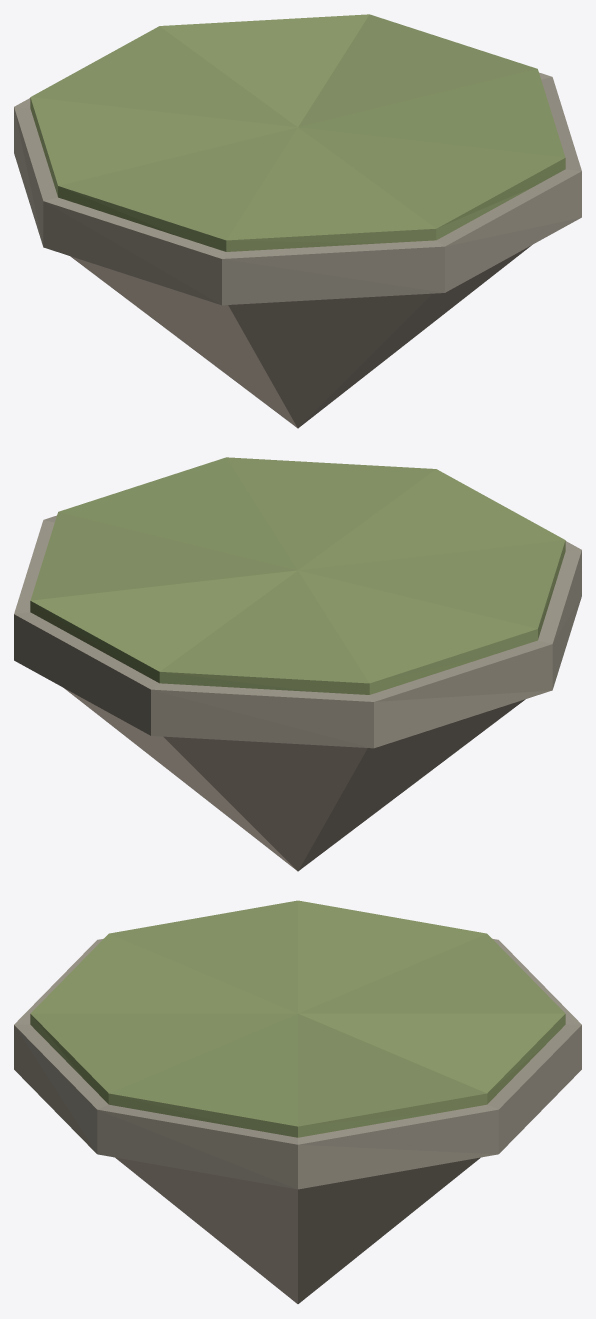
Rendered from float_isle.glb.
3 renders of one model, top to bottom at view 1: azimuth 30°, elevation 25°; view 2: azimuth 150°, elevation 25°; view 3: azimuth 270°, elevation 25°, orthographic. The views are drawn at different scales.
Parts seen in each view (by area): view 1: grass, stone_top, rock_underside; view 2: grass, stone_top, rock_underside; view 3: grass, stone_top, rock_underside.
Boxes of the visible parts, left/top/right/bottom form: grass: left=30, top=14, right=565, bottom=251; stone_top: left=14, top=72, right=581, bottom=305; rock_underside: left=70, top=245, right=531, bottom=428; grass: left=30, top=457, right=565, bottom=694; stone_top: left=14, top=515, right=581, bottom=748; rock_underside: left=64, top=688, right=525, bottom=871; grass: left=30, top=900, right=565, bottom=1137; stone_top: left=14, top=938, right=581, bottom=1189; rock_underside: left=115, top=1157, right=480, bottom=1303.
Bounding box in the file's own units: 1.38 × 0.78 × 1.38.
